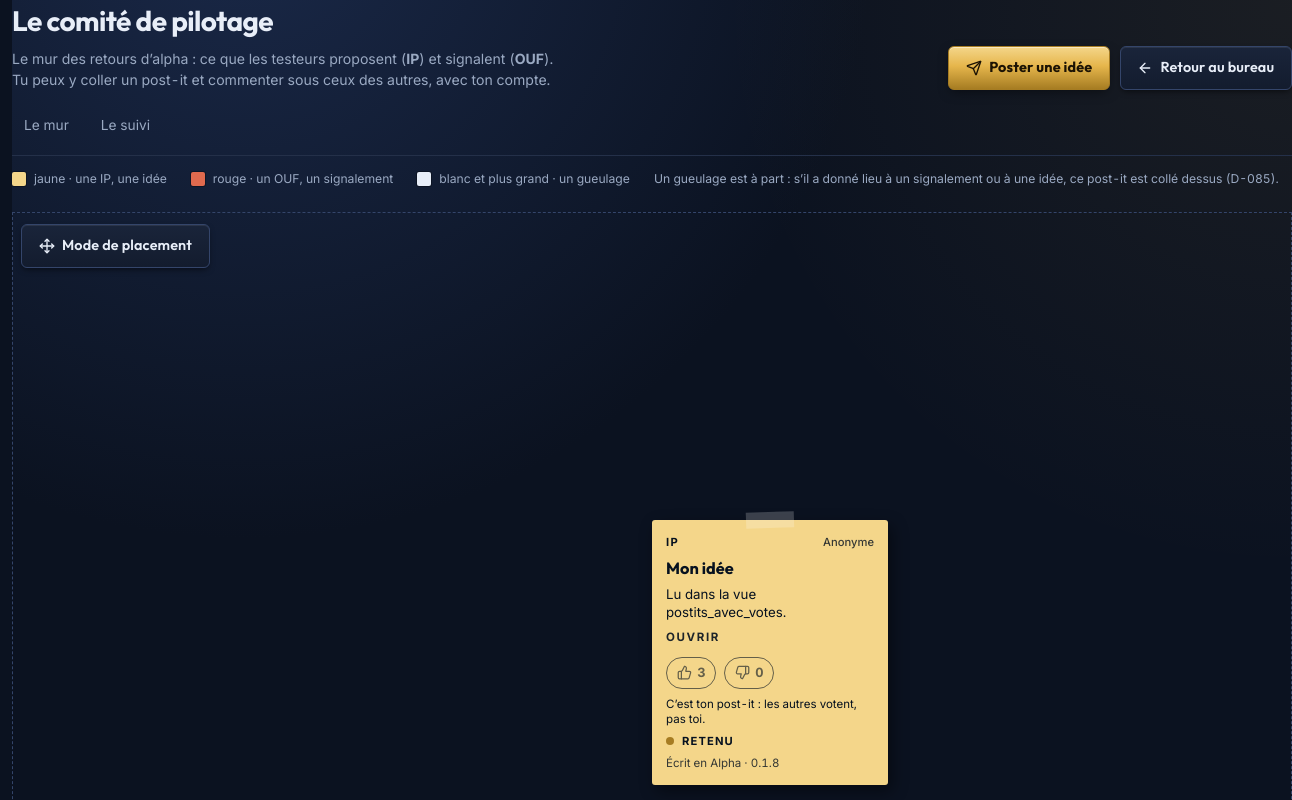
relire ou retirer son post-it (#139) › après un statut, la correction est fermée, et l’écran dit pourquoi
The image size is (1292, 800).
Expected: the text "Mon idée" is shown, [666,558,734,578]
Click the button with aria-label "Agrandir le post-it « Mon idée »" at point(770, 590), box [666,534,874,647]
(page scrolled)
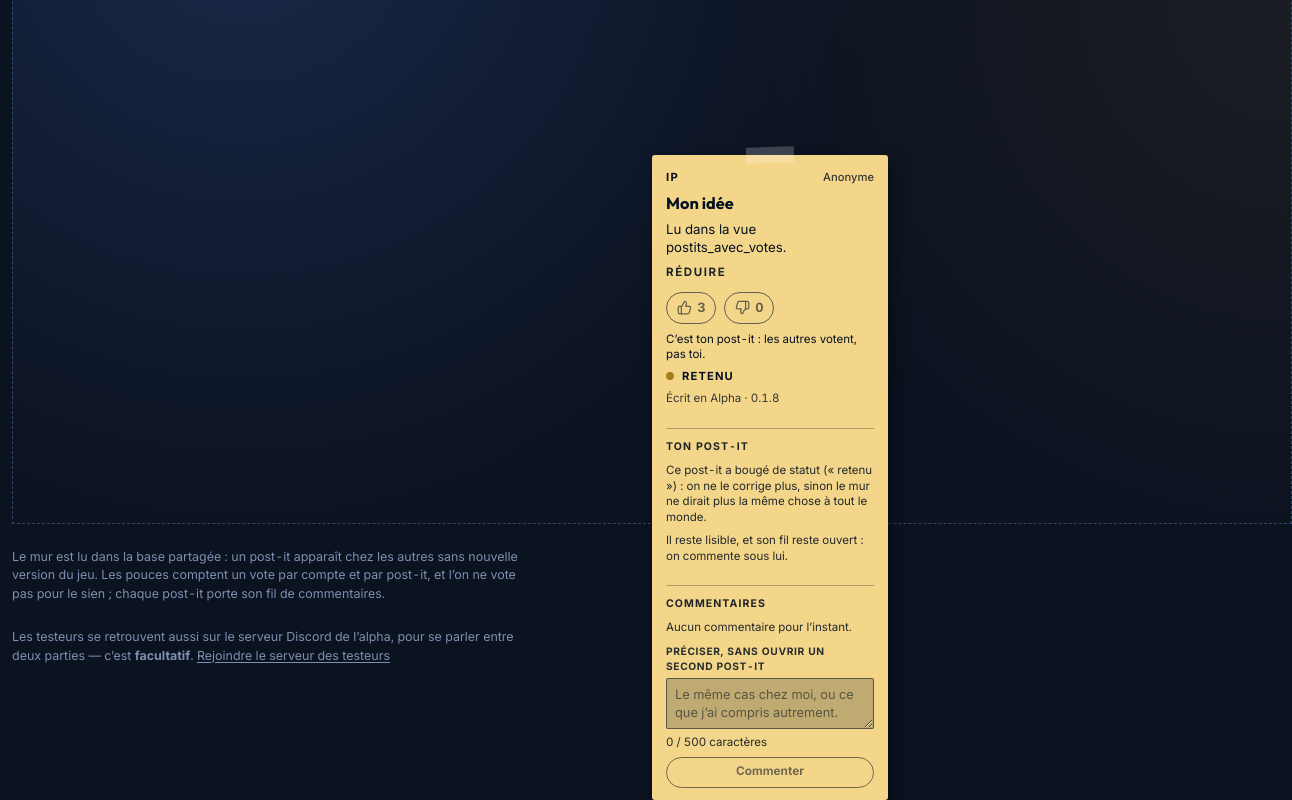
Expected: the element that starts with "Ton post-it" is shown, [666,428,874,564]
Expected: the text "on ne le corrige plus" is shown, [666,463,872,524]
